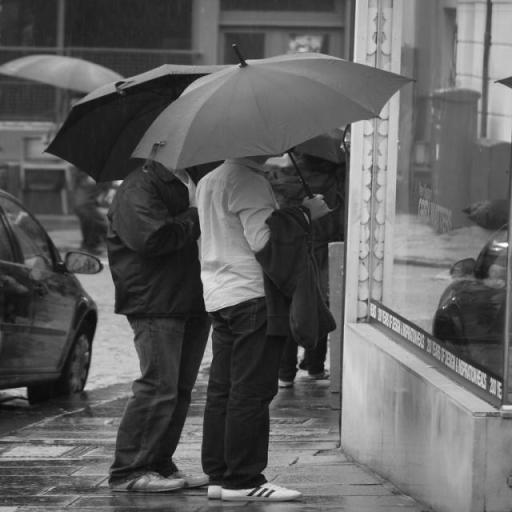guarda_chuva: (127, 34, 407, 170), (46, 38, 234, 174), (15, 54, 129, 104)
